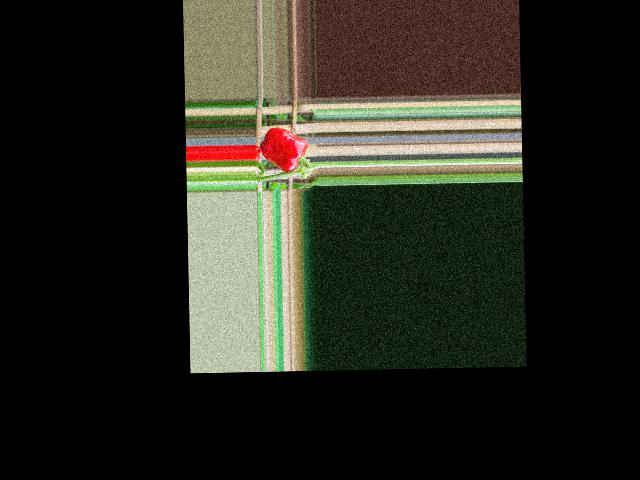bell_pepper: (260, 123, 308, 176)
